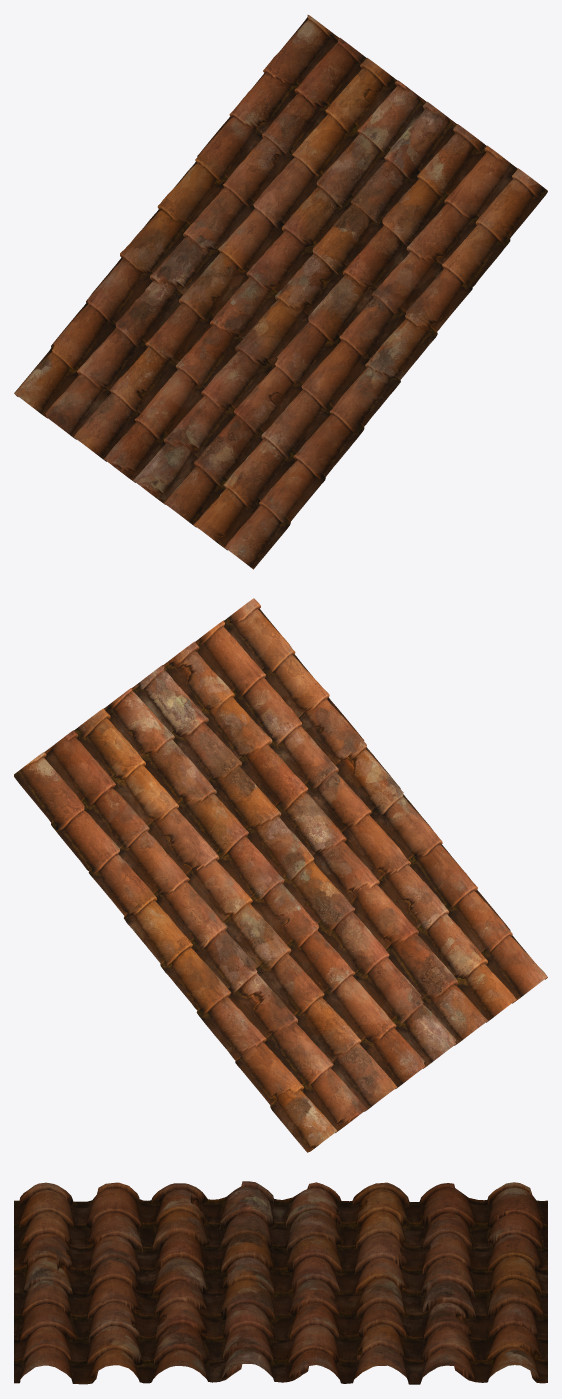
The model's file is tile_roof.glb.
The picture shows the model from 3 angles, top to bottom: view 1: azimuth 30°, elevation 25°; view 2: azimuth 150°, elevation 25°; view 3: azimuth 270°, elevation 25°; orthographic projection. The views are drawn at different scales.
Parts seen in each view (by area): view 1: Plane001_01 - Default_0; view 2: Plane001_01 - Default_0; view 3: Plane001_01 - Default_0.
Part boxes in pixels (<box>): Plane001_01 - Default_0: <box>14,15,547,569</box>; Plane001_01 - Default_0: <box>14,598,547,1152</box>; Plane001_01 - Default_0: <box>14,1181,547,1384</box>.
Bounding box in the file's own units: 103 × 103 × 140.
Materials: 1 (1 with a texture image).
